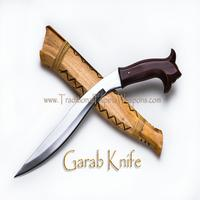knife: (10, 47, 179, 183)
